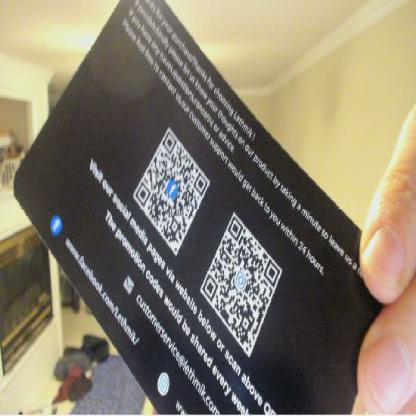qr: (198, 211, 288, 361), (131, 125, 216, 257)
